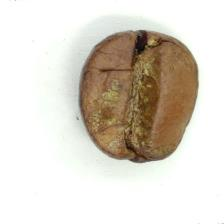NG: (89, 53, 176, 160)
